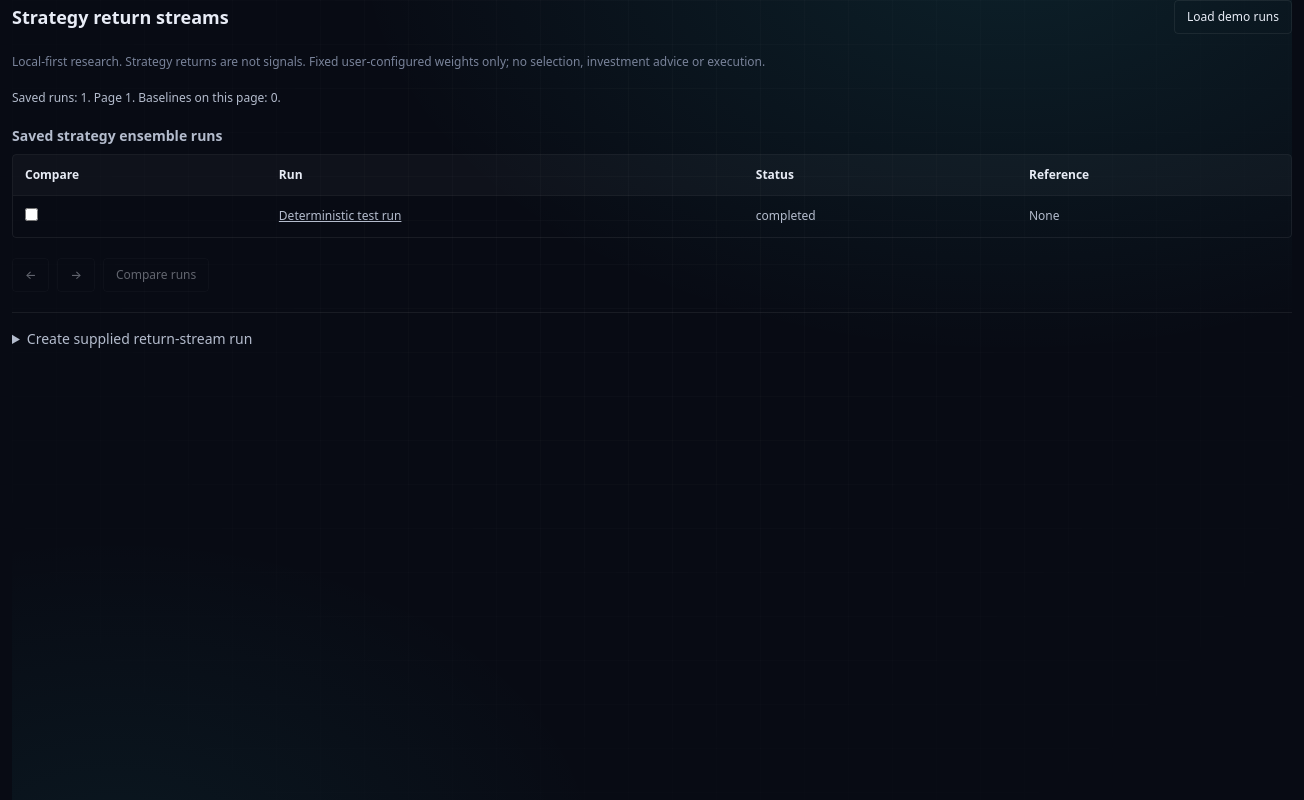
Test: StrategyEnsemblePanel › loads demo once and opens actual fixture detail without running a backtest
Expected: the button "Deterministic test run" is shown, [279,208,402,224]
Click the button "Load demo runs". click: (1233, 17)
box: [1174,0,1292,34]
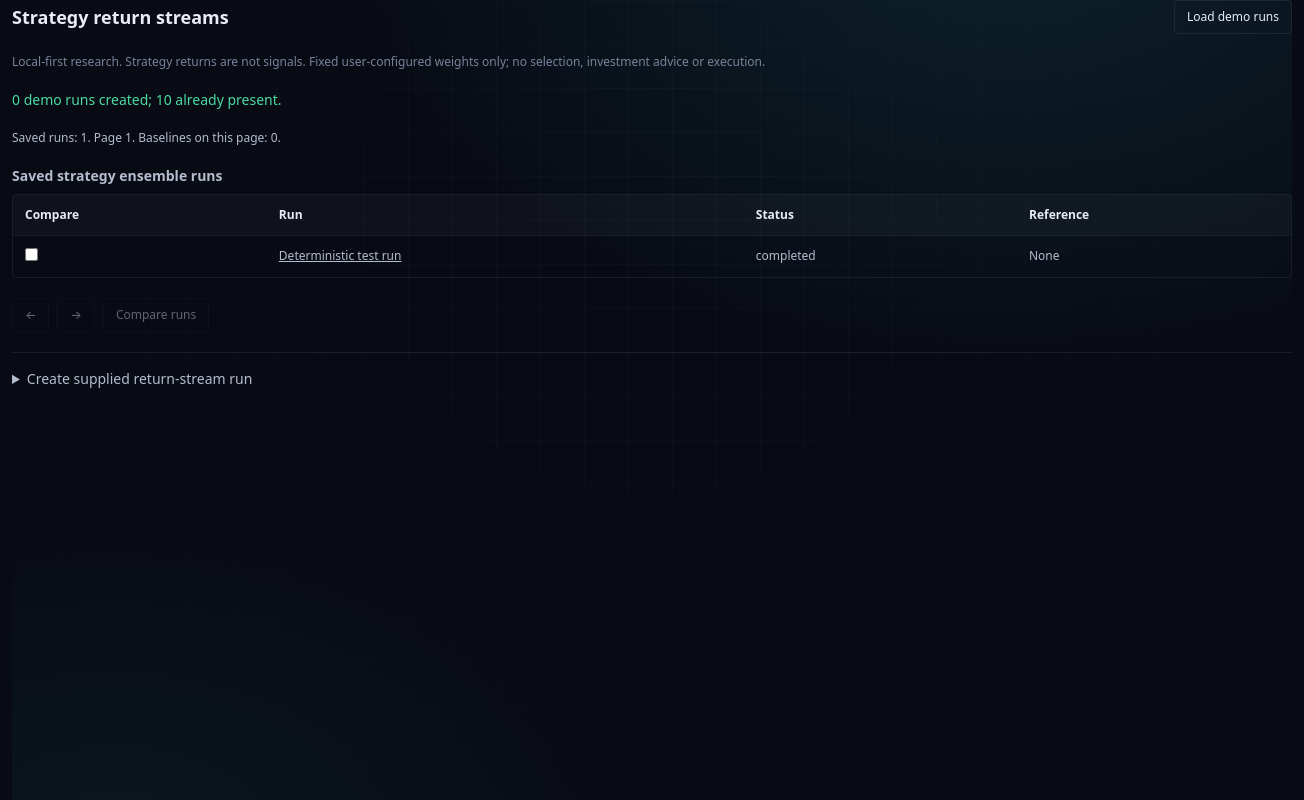
Expected: the text "0 demo runs created; 10 already present." is shown, [12,90,282,109]
Click the button "Deterministic test run". click: (340, 256)
box: [279,248,402,264]
(page scrolled)
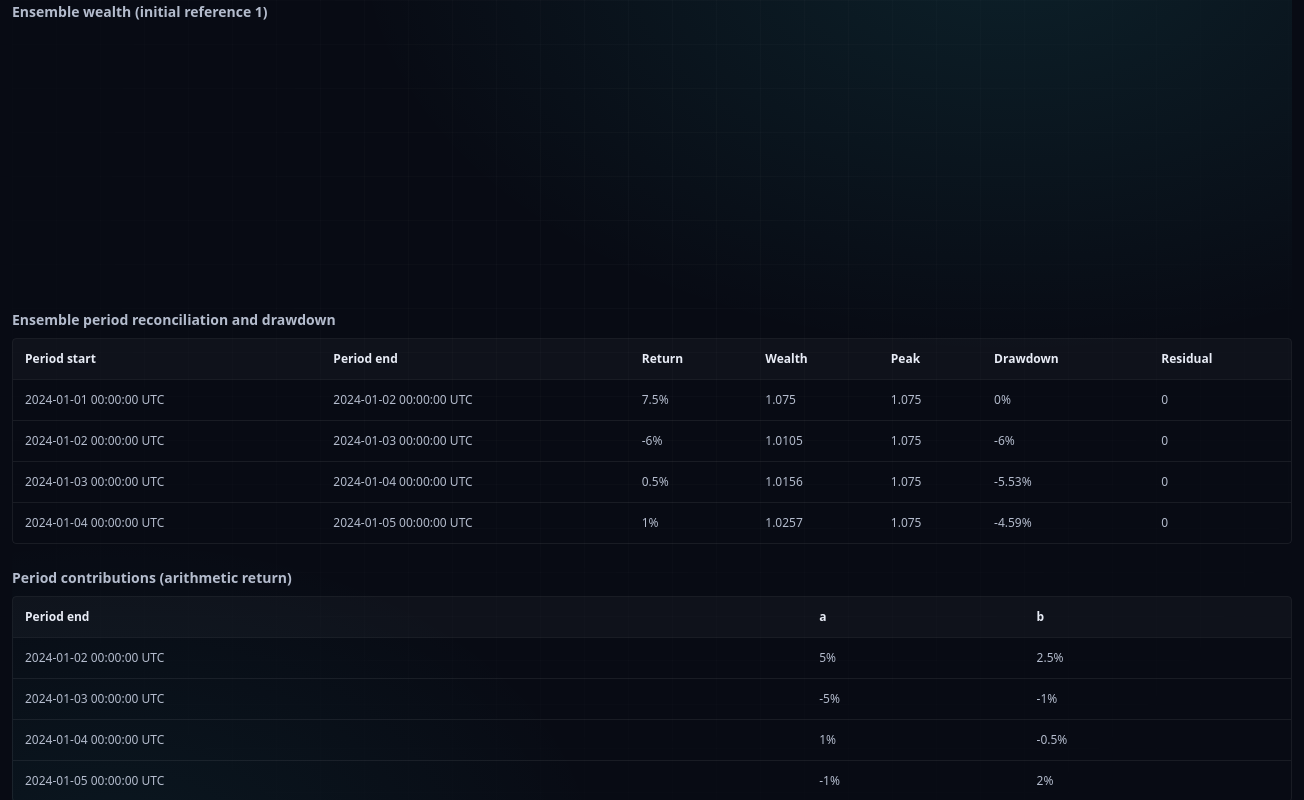
Expected: the table named "Ensemble period reconciliation and drawdown" is shown, [13,339,1291,543]
